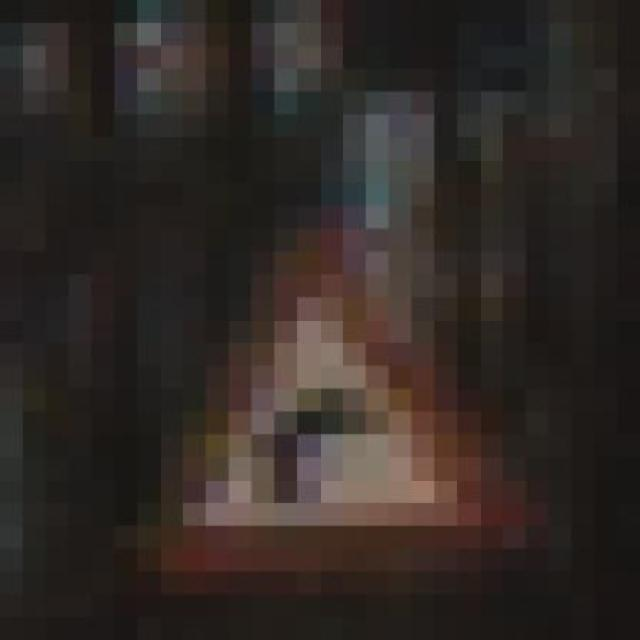Dangerous Rright Curve Ahead: (114, 183, 526, 572)
